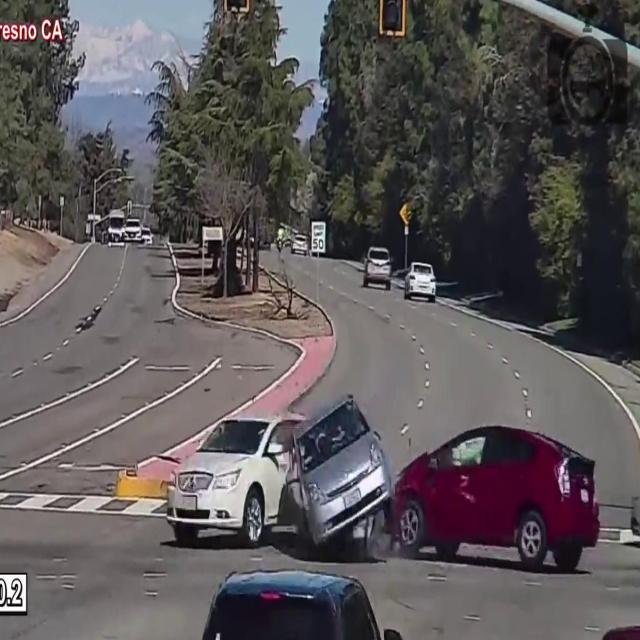accident: (161, 355, 607, 589)
